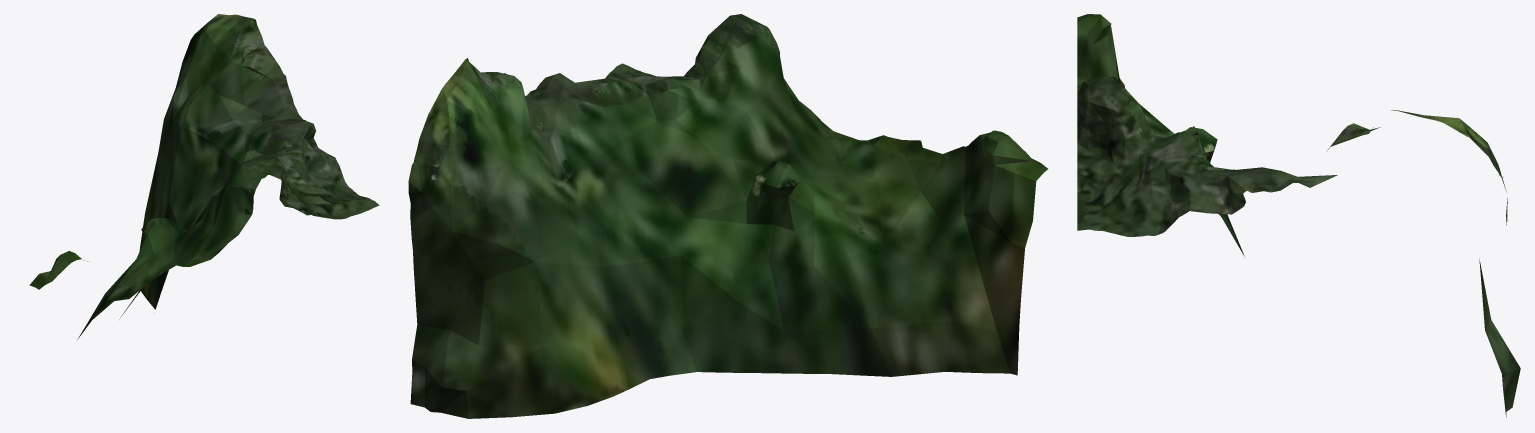
3 renders of one model, left to right at view 1: azimuth 30°, elevation 25°; view 2: azimuth 150°, elevation 25°; view 3: azimuth 270°, elevation 25°, orthographic. The views are drawn at different scales.
Size of the model in its own units: 0.8374 by 0.5719 by 0.7452.
3 materials, 3 textured.
